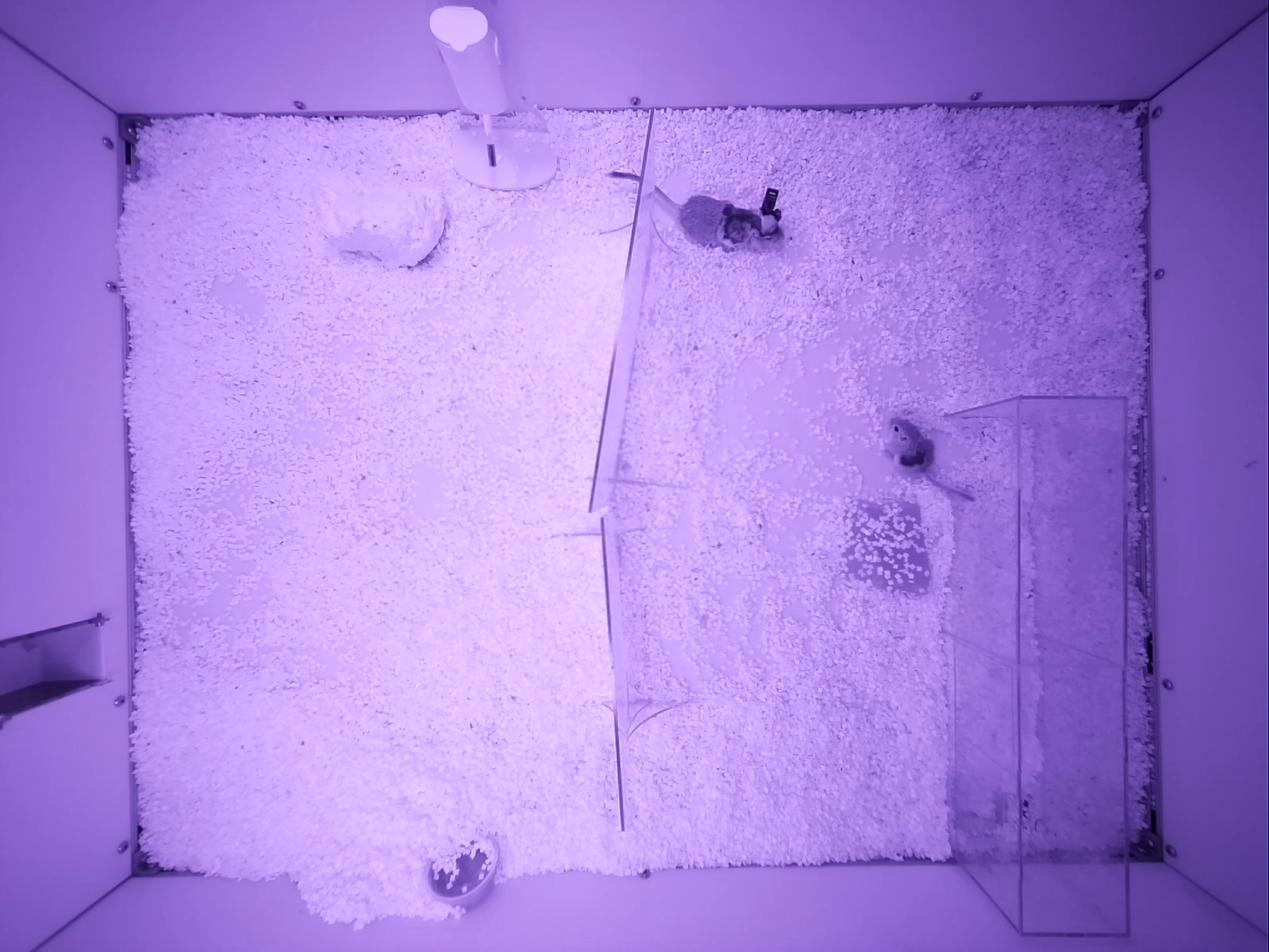adult_back: (654, 187, 780, 249), (886, 417, 972, 500)
